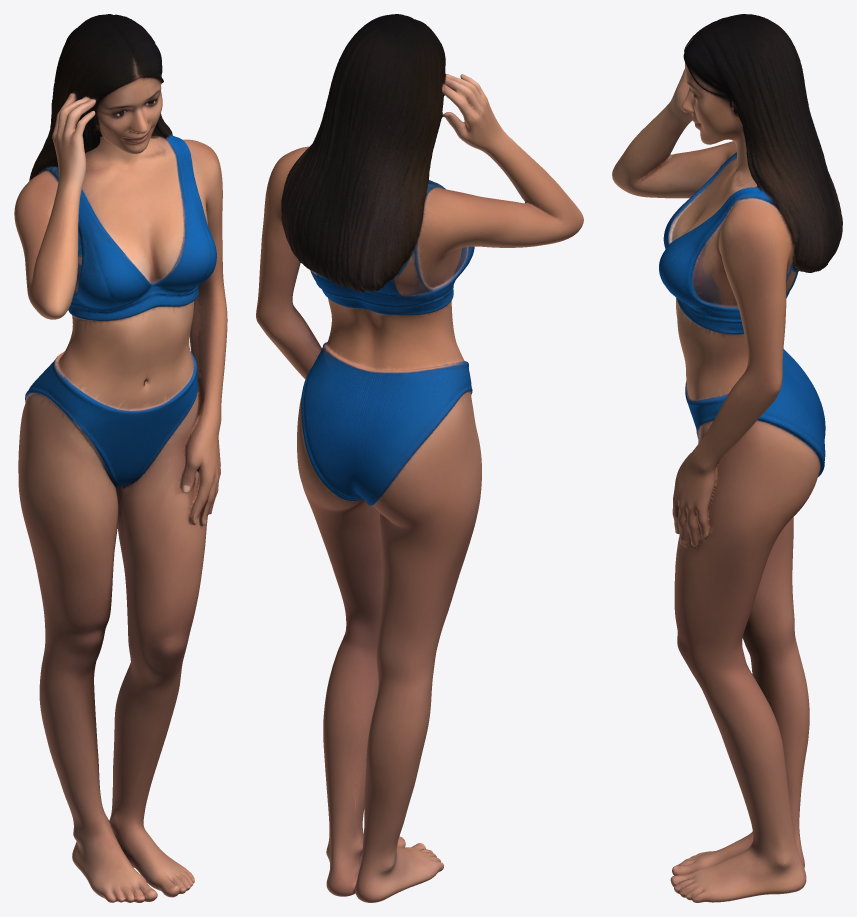
File: blue_bikini_portrait.glb
3 renders of one model, left to right at view 1: azimuth 30°, elevation 25°; view 2: azimuth 150°, elevation 25°; view 3: azimuth 270°, elevation 25°, orthographic.
Parts seen in each view (by area): view 1: Object_5, Object_6; view 2: Object_6, Object_5; view 3: Object_6, Object_5.
Part boxes in pixels (x1=…): Object_5: x1=20, y1=14, x2=226, y2=902; Object_6: x1=14, y1=17, x2=227, y2=893; Object_6: x1=256, y1=15, x2=517, y2=902; Object_5: x1=271, y1=14, x2=583, y2=895; Object_6: x1=697, y1=14, x2=842, y2=902; Object_5: x1=612, y1=14, x2=821, y2=902.
Size of the model in its own units: 0.5805 by 1.9 by 0.4633.
Materials: 1 (1 with a texture image).
